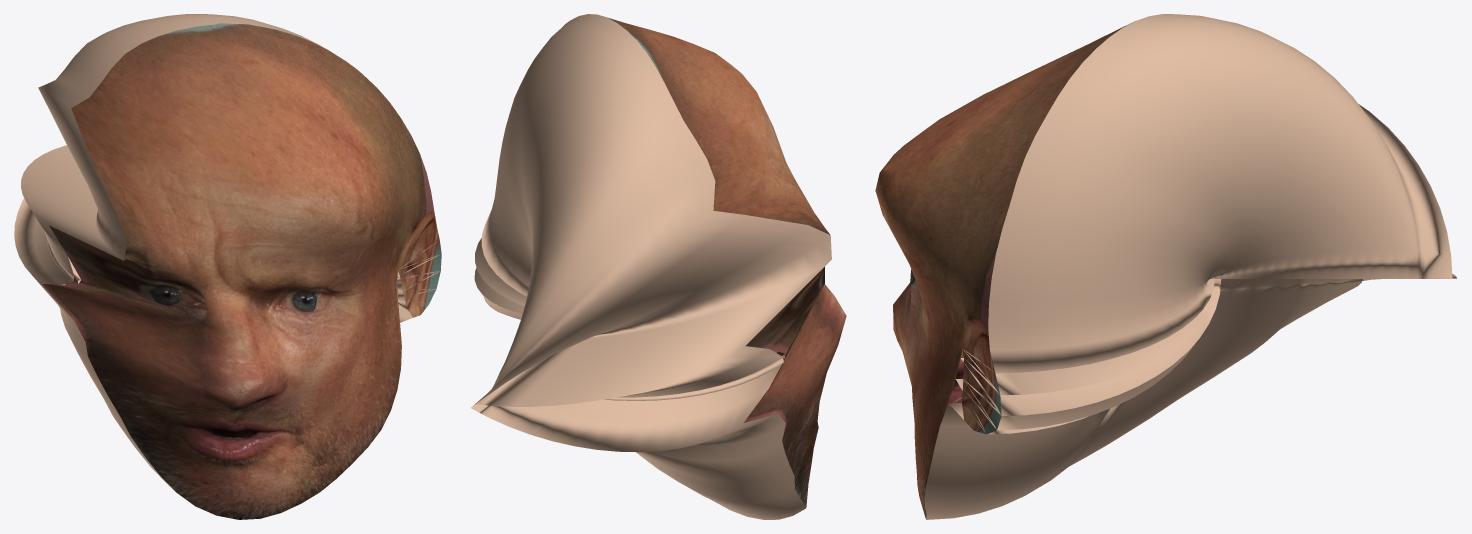
3 renders of one model, left to right at view 1: azimuth 30°, elevation 25°; view 2: azimuth 150°, elevation 25°; view 3: azimuth 270°, elevation 25°, orthographic. The views are drawn at different scales.
Parts seen in each view (by area): view 1: head; view 2: head; view 3: head.
Part boxes in pixels (left/top/right/bottom): head: left=14, top=14, right=441, bottom=519; head: left=470, top=14, right=846, bottom=519; head: left=875, top=14, right=1457, bottom=519.
Bounding box in the file's own units: 0.1958 × 0.2647 × 0.2725.
2 materials, 1 textured.
